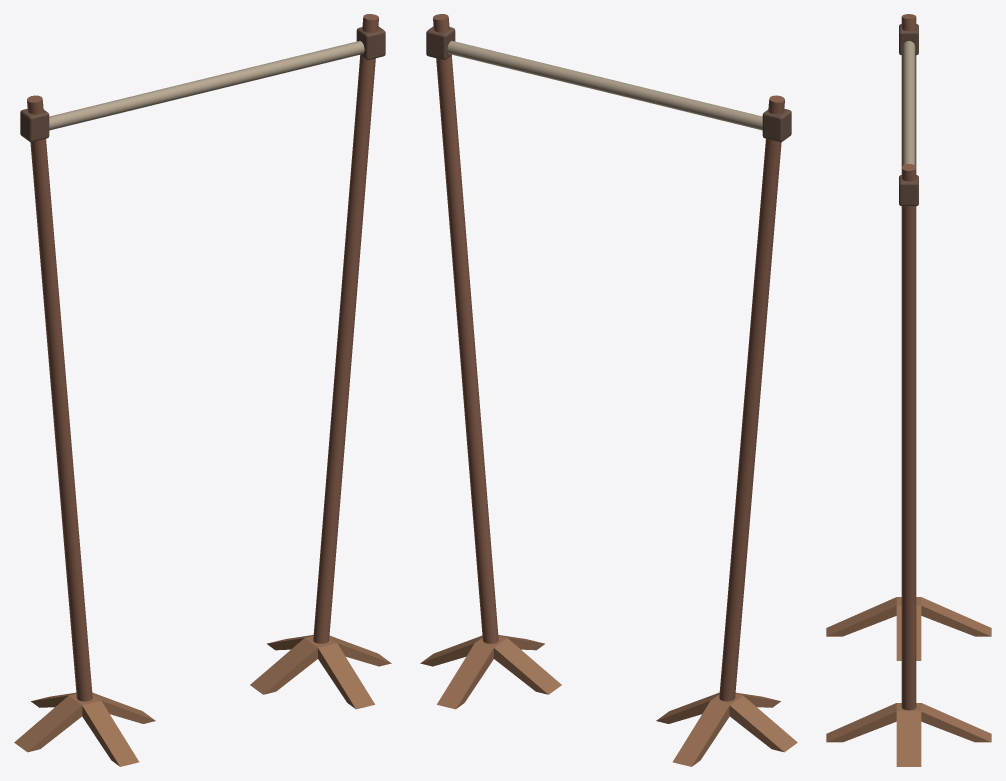
3 renders of one model, left to right at view 1: azimuth 30°, elevation 25°; view 2: azimuth 150°, elevation 25°; view 3: azimuth 270°, elevation 25°, orthographic. The views are drawn at different scales.
Parts seen in each view (by area): view 1: rack-frame, rack-stock-feet, garment-rail, rack-rail-bosses; view 2: rack-frame, rack-stock-feet, garment-rail, rack-rail-bosses; view 3: rack-frame, rack-stock-feet, garment-rail, rack-rail-bosses.
Part boxes in pixels (x1,y1,x2,y2): rack-frame: (27,14,378,701); rack-stock-feet: (14,635,391,766); garment-rail: (49,41,364,130); rack-rail-bosses: (20,26,385,142); rack-frame: (433,14,784,701); rack-stock-feet: (420,635,797,766); garment-rail: (447,41,762,130); rack-rail-bosses: (426,26,791,142); rack-frame: (901,14,916,710); rack-stock-feet: (826,597,991,766); garment-rail: (902,41,915,165); rack-rail-bosses: (899,24,918,206).
Size of the model in its own units: 0.9274 by 1.57 by 0.3956.
